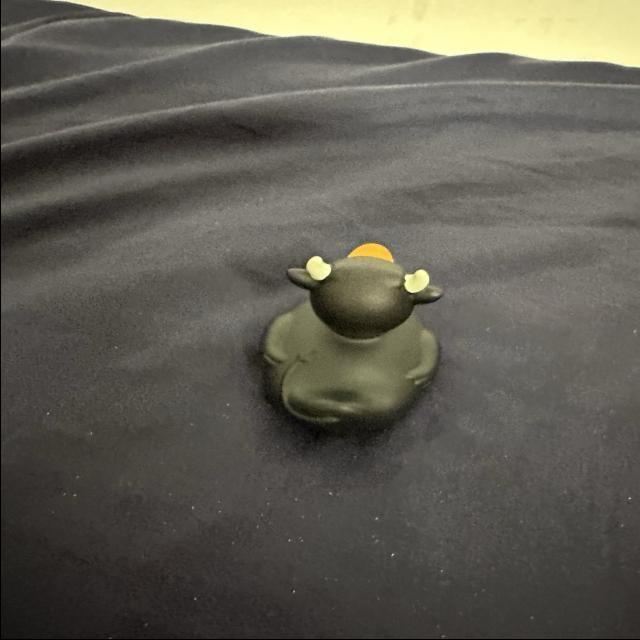rubber-duck: (263, 242, 441, 426)
